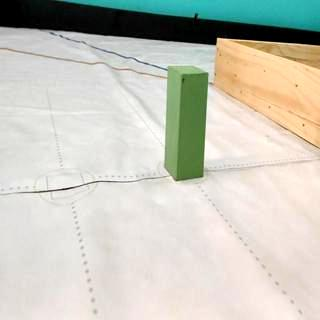greenbox: (164, 63, 210, 183)
